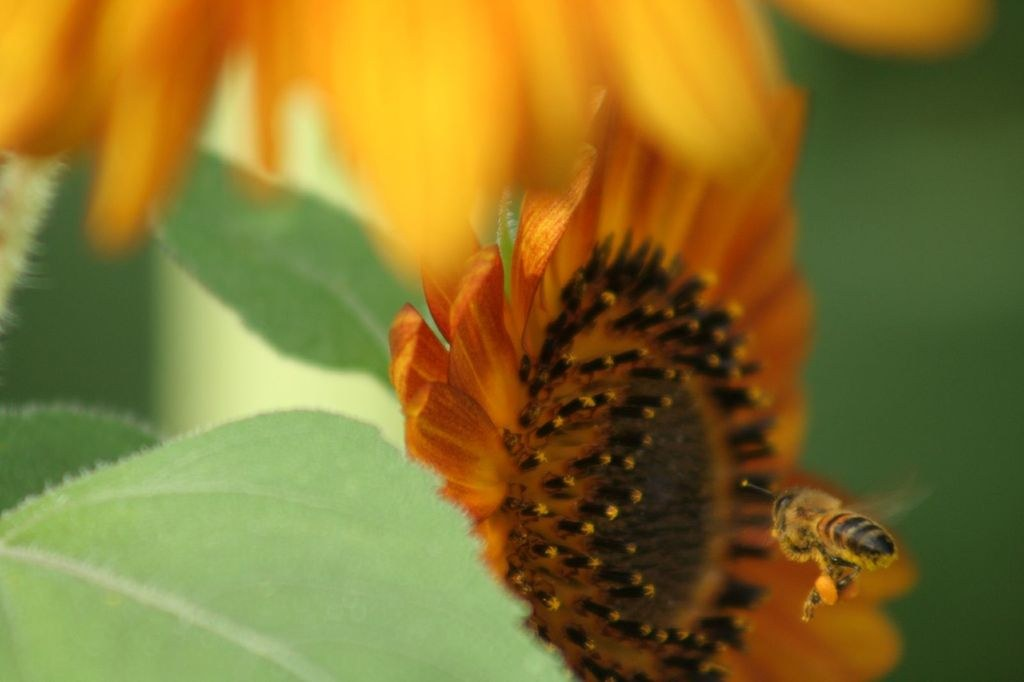bee: (764, 495, 938, 619)
insect: (271, 73, 791, 662)
